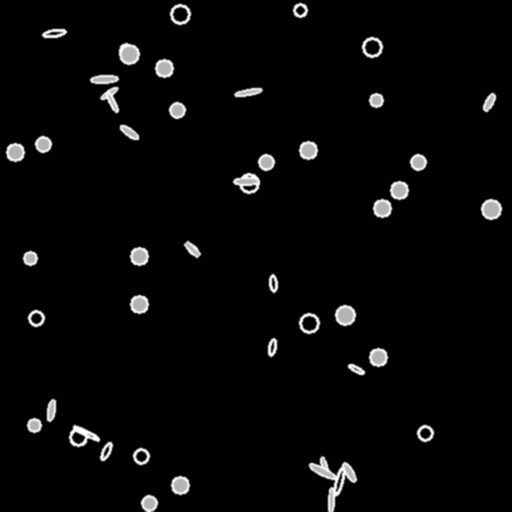pseudomonas: (72, 424, 100, 442), (308, 462, 336, 480), (118, 123, 140, 141), (332, 467, 346, 495), (341, 462, 357, 482), (105, 92, 119, 112), (482, 92, 496, 112), (235, 87, 261, 97), (184, 241, 200, 257), (100, 86, 118, 100), (99, 442, 113, 460), (42, 28, 66, 38), (90, 75, 118, 83), (46, 400, 56, 420), (319, 456, 329, 476), (348, 363, 364, 375), (267, 338, 277, 356), (234, 178, 258, 184), (328, 488, 334, 512), (269, 274, 277, 292)
synechocystis: (363, 38, 381, 56), (240, 174, 258, 192), (171, 5, 189, 23), (336, 306, 354, 324), (482, 200, 500, 218), (120, 45, 138, 63), (300, 314, 318, 332), (370, 349, 386, 365), (156, 60, 172, 76), (7, 144, 23, 160), (172, 477, 188, 493), (131, 248, 147, 264), (70, 429, 86, 445), (131, 296, 147, 312), (300, 142, 316, 158), (374, 200, 390, 216), (391, 182, 407, 198), (411, 155, 425, 169), (418, 426, 432, 440), (36, 137, 50, 151), (29, 311, 43, 325), (170, 103, 184, 117), (259, 155, 273, 169), (134, 449, 148, 463), (142, 496, 156, 510), (370, 94, 382, 106), (24, 252, 36, 264), (294, 4, 306, 16), (120, 44, 132, 56), (28, 419, 40, 431)
